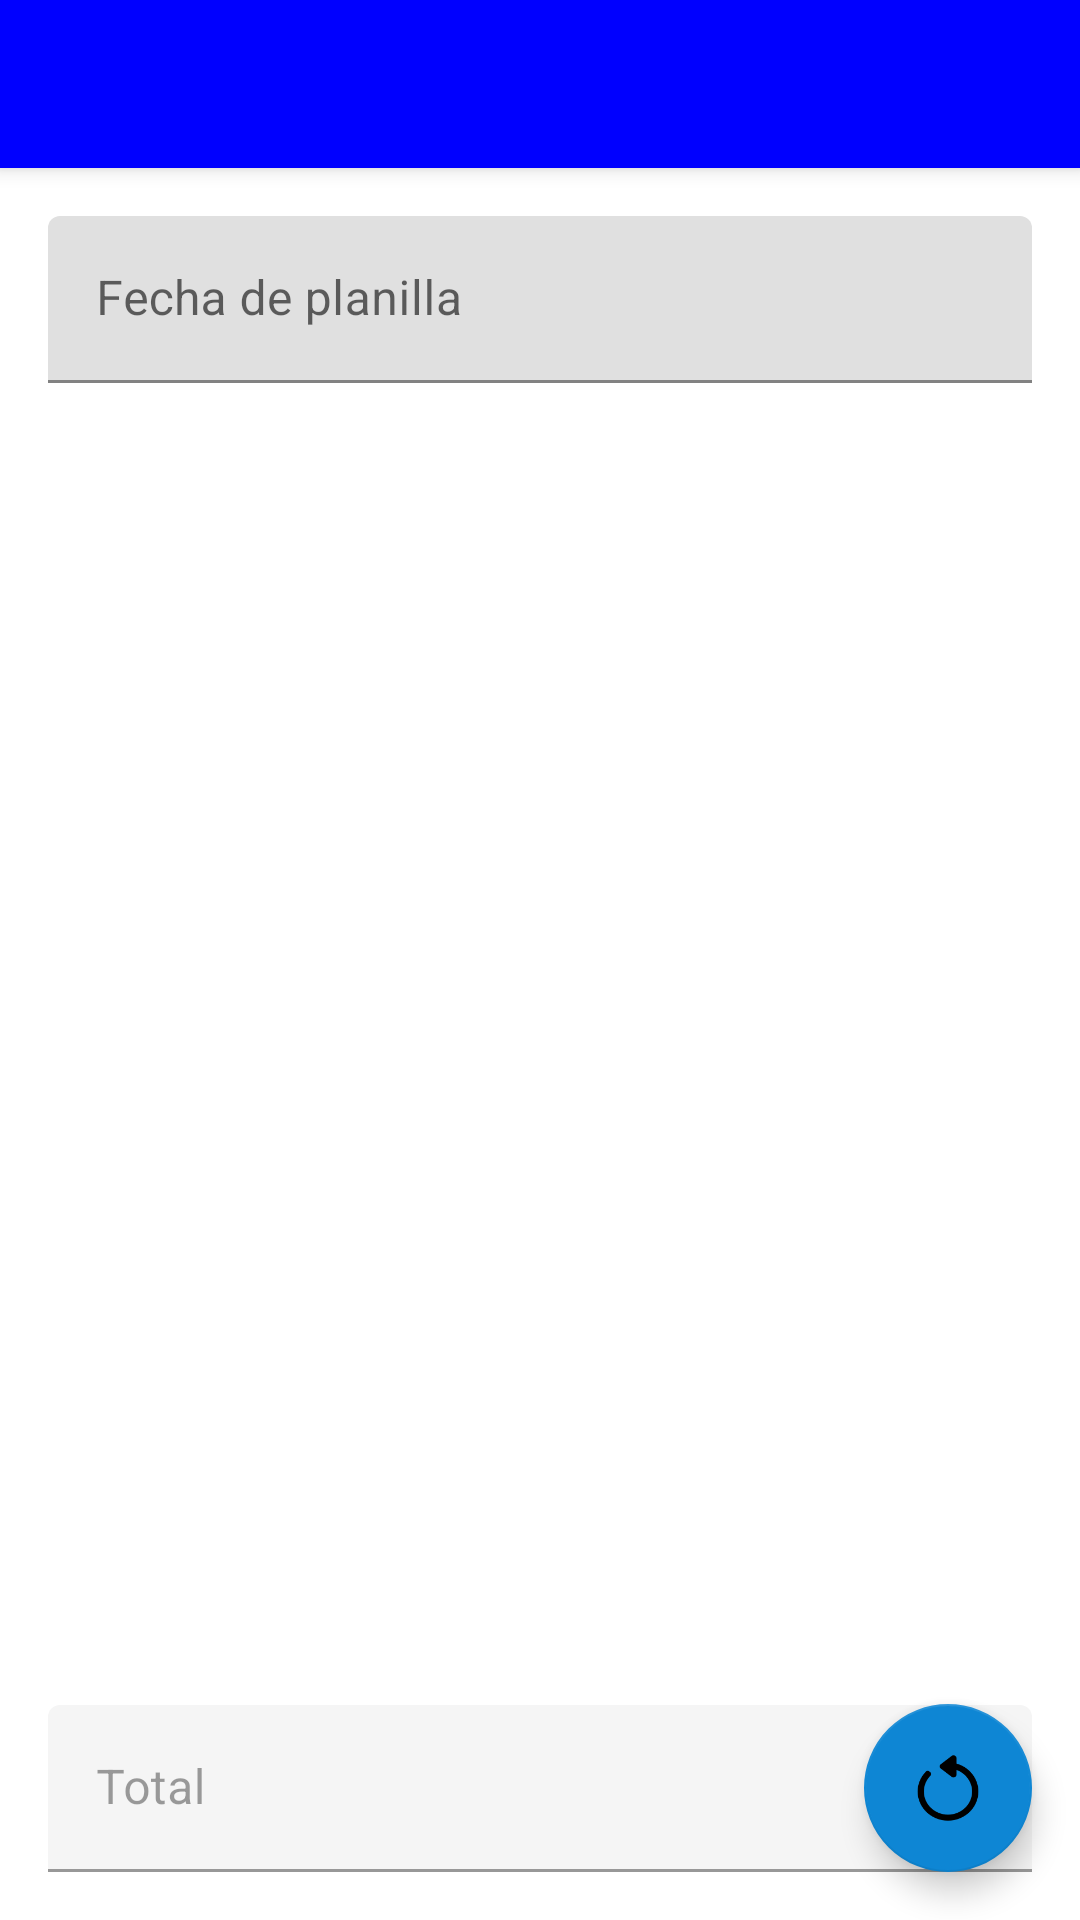

Where to tap for icons on this 1080 × 1920 app screen, as (x=x, y=y):
reload: (x=948, y=1788)
